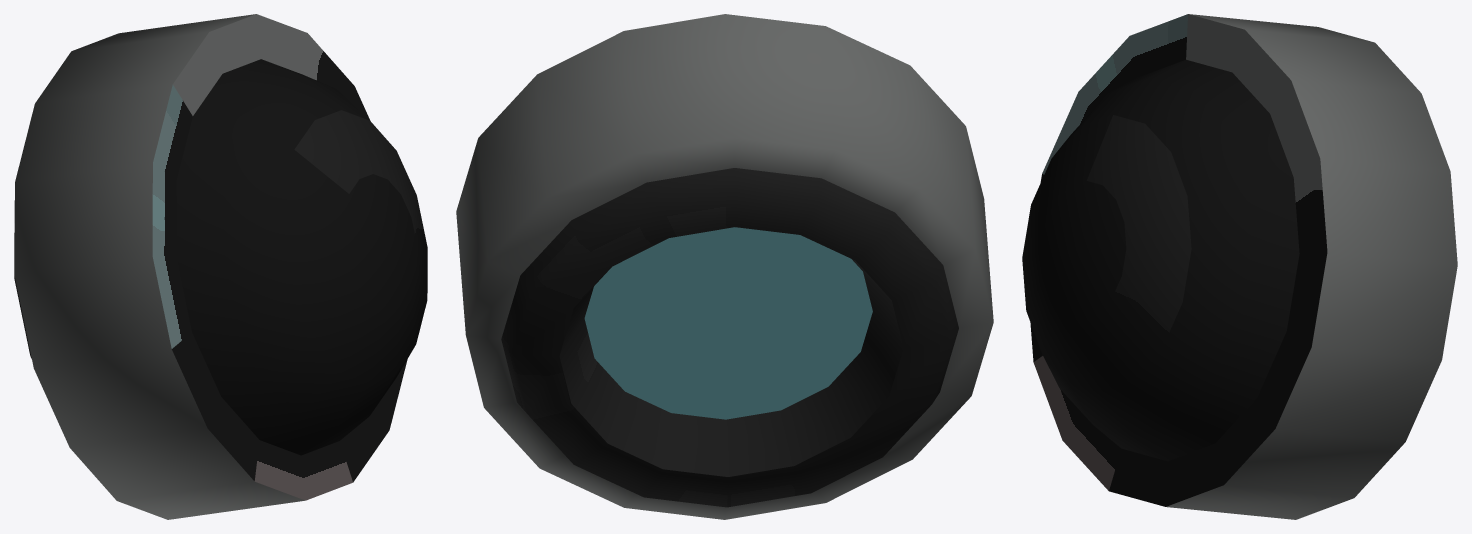
The model's file is RuedaAtras.glb.
The picture shows the model from 3 angles, left to right: view 1: azimuth 30°, elevation 25°; view 2: azimuth 150°, elevation 25°; view 3: azimuth 270°, elevation 25°; orthographic projection. The views are drawn at different scales.
Visible parts, largest first — view 1: Rueda_Atras_Der; view 2: Rueda_Atras_Der; view 3: Rueda_Atras_Der.
Part boxes in pixels (box(x1,y1,x2,y2)): Rueda_Atras_Der: box(14, 14, 427, 519); Rueda_Atras_Der: box(456, 14, 993, 519); Rueda_Atras_Der: box(1022, 14, 1457, 519).
Bounding box in the file's own units: 0.5793 × 0.6057 × 0.5055.
Materials: 1 (1 with a texture image).
